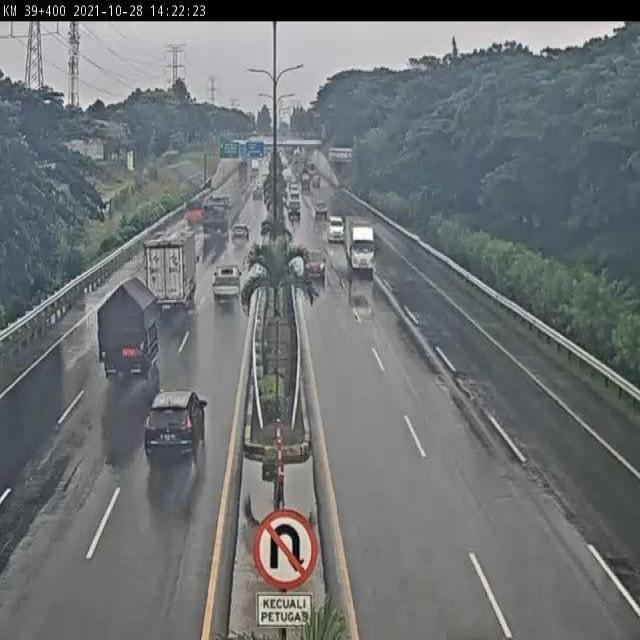car: (142, 387, 207, 468), (210, 258, 244, 306), (303, 246, 326, 278), (230, 219, 252, 244)
truck-l-: (139, 225, 198, 319), (196, 197, 229, 240)
truck-m-: (96, 280, 161, 380)
truck-s-: (344, 213, 378, 276), (186, 201, 203, 228)
